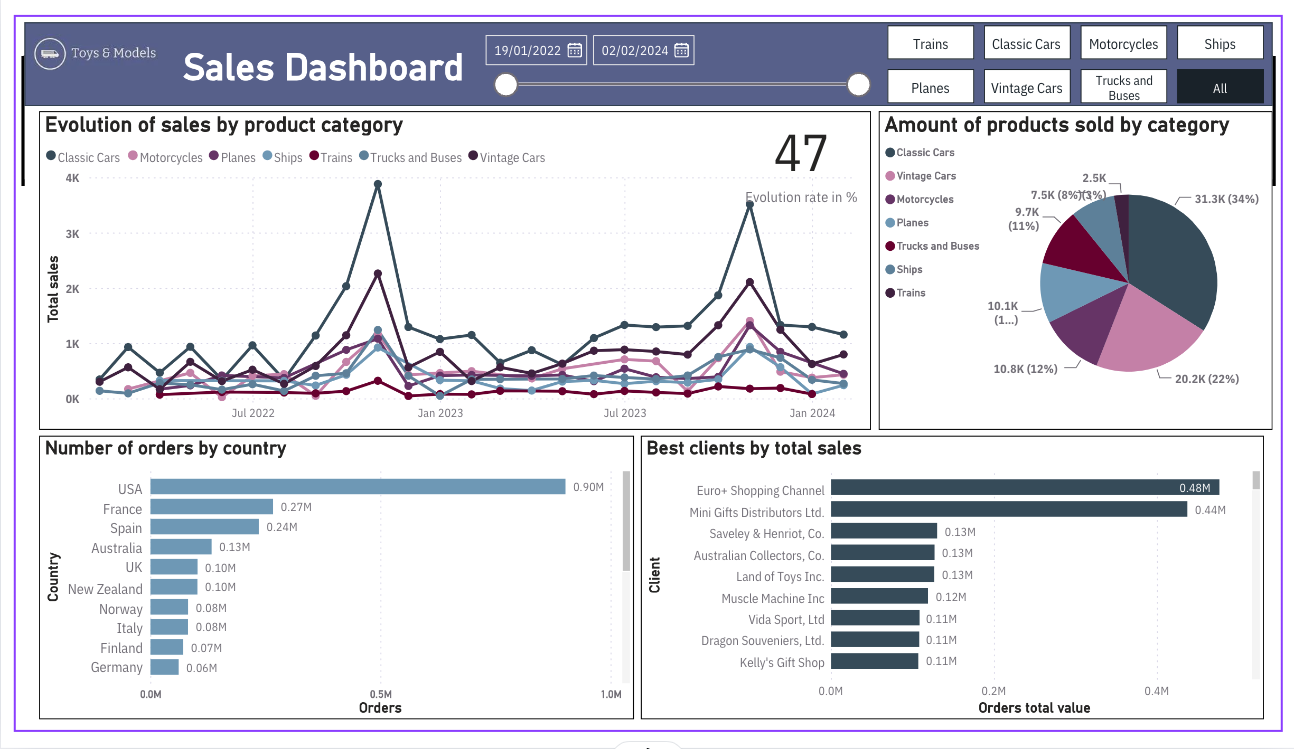

The page's visual inventory and layout, read from the dashboard file:
{"tool":"powerbi","page":{"name":"Sales","canvas":[1280,720],"ordinal":0},"visuals":[{"type":"lineChart","title":"Evolution of sales by product category","fields":{"Category":["VENTE.Date.Variation.Date Hierarchy.Year","VENTE.Date.Variation.Date Hierarchy.Month"],"Y":["Sum(VENTE.total_vendus)"],"Series":["VENTE.productLine"]},"box":[14.7,91.4,853.7,327.1],"z":0,"group":"g2"},{"type":"pieChart","title":"Amount of products sold by category","fields":{"Y":["Sum(products by category.quantityOrdered)"],"Category":["products by category.productLine"]},"box":[876.3,91.4,403.7,327.1],"z":0},{"type":"barChart","title":"Best clients by total sales","fields":{"Category":["customers.customerName"],"Y":["Sum(orderdetails.order value)"]},"box":[631.7,424.4,639.5,290.8],"z":1000},{"type":"barChart","title":"Number of orders by country","fields":{"Category":["customers.country"],"Y":["Sum(orders.orderNumber)"]},"box":[14.7,424.4,610,290.8],"z":2000},{"type":"slicer","fields":{"Values":["KPI VENTE.productLine"]},"box":[888,394.9,12.8,12.8],"z":3000},{"type":"group","id":"g1","title":"Group 1","box":[0,0,1280,418.5],"z":5000},{"type":"shape","box":[0,0,1280,86.4],"z":5000,"group":"g2"},{"type":"card","fields":{"Values":["Avg(KPI VENTE.taux_evolution_en_pourcentage)"]},"box":[707.5,74.3,177.3,107.5],"z":5500},{"type":"slicer","fields":{"Values":["orders.orderDate"]},"box":[460.3,2.7,424.5,78.8],"z":6000},{"type":"textbox","box":[150.5,17.9,312.2,64],"z":6000,"group":"g2"},{"type":"slicer","fields":{"Values":["orders.orderDate"]},"box":[462.7,2.9,425.4,78.6],"z":7000,"group":"g1"},{"type":"bookmarkNavigator","box":[885.1,2.9,386.1,80.6],"z":8000,"group":"g2"},{"type":"image","box":[0,0,142.4,59.9],"z":10000,"group":"g2"},{"type":"group","id":"g2","title":"Group 2","box":[0,0,1280,418.5],"z":10002,"group":"g1"}]}

Visuals, with their boxes in screenshot pixels (x1, y1, x2, y2), scaled from the page's 1280x720 canvas onto the 1294x749 screenshot:
"Evolution of sales by product category" lineChart: l=15, t=95, r=878, b=435
"Amount of products sold by category" pieChart: l=886, t=95, r=1293, b=435
"Best clients by total sales" barChart: l=639, t=441, r=1285, b=744
"Number of orders by country" barChart: l=15, t=441, r=632, b=744
slicer - KPI VENTE.productLine: l=898, t=411, r=911, b=424
"Group 1" group: l=0, t=0, r=1293, b=435
shape: l=0, t=0, r=1293, b=90
card - Avg(KPI VENTE.taux_evolution_en_pourcentage): l=715, t=77, r=894, b=189
slicer - orders.orderDate: l=465, t=3, r=894, b=85
textbox: l=152, t=19, r=468, b=85
slicer - orders.orderDate: l=468, t=3, r=898, b=85
bookmarkNavigator: l=895, t=3, r=1285, b=87
image: l=0, t=0, r=144, b=62
"Group 2" group: l=0, t=0, r=1293, b=435
